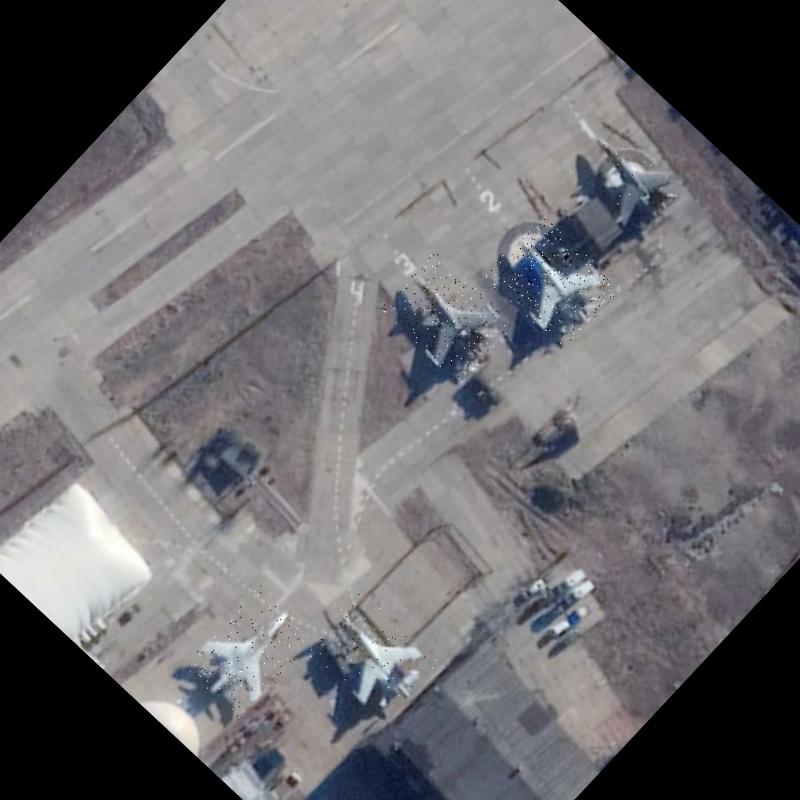A1: (180, 580, 318, 722), (482, 213, 622, 352), (378, 250, 515, 388), (302, 589, 440, 725), (562, 118, 688, 242)
